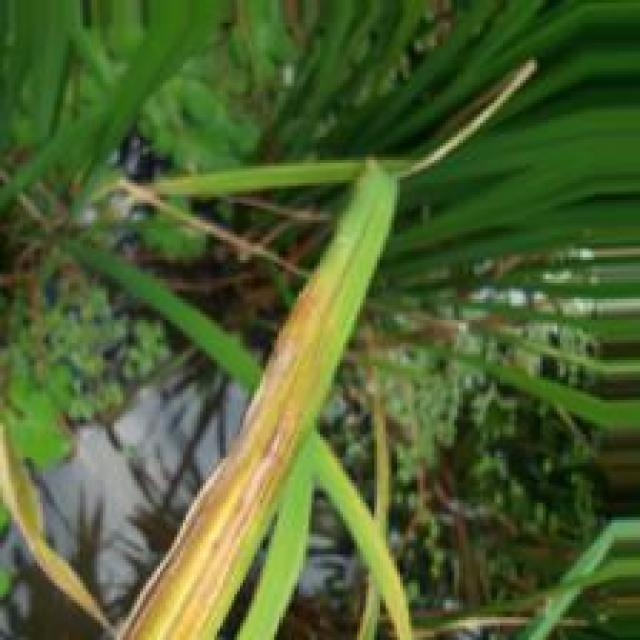Leaf_Scald: (117, 275, 324, 640)
